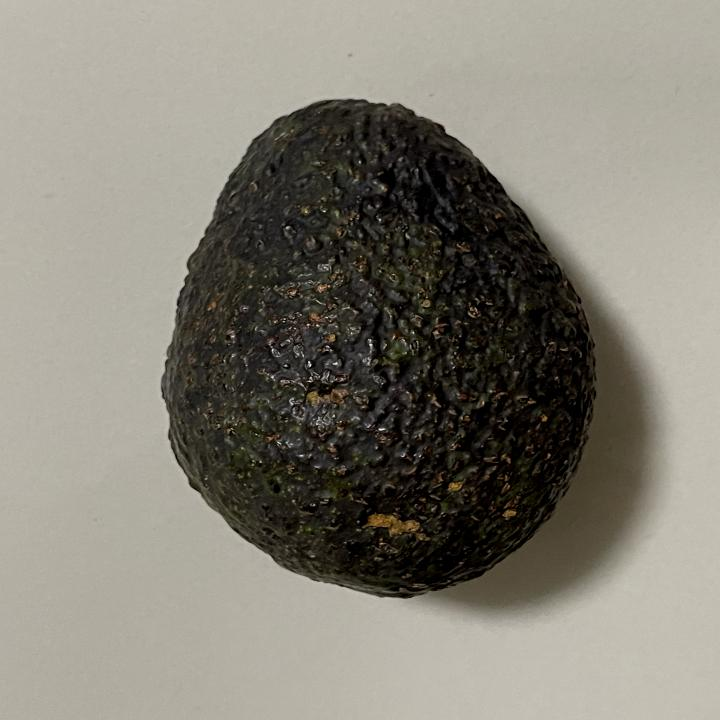Level2: (154, 91, 606, 605)
